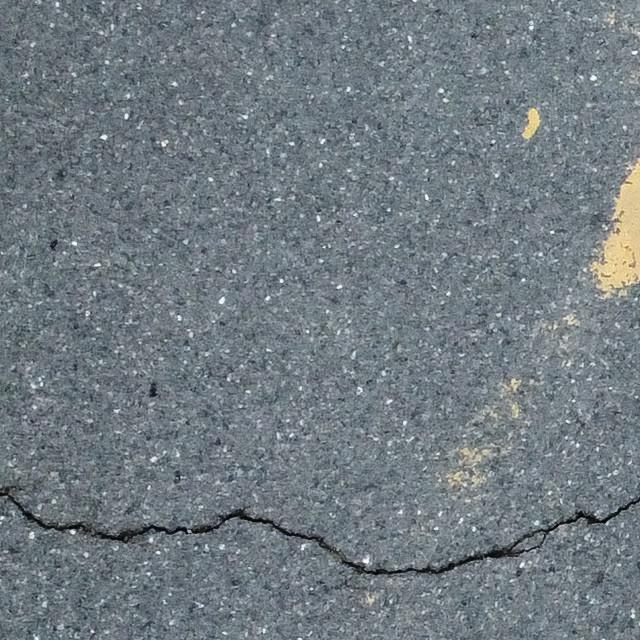TransverseCrack: (1, 487, 640, 575)
